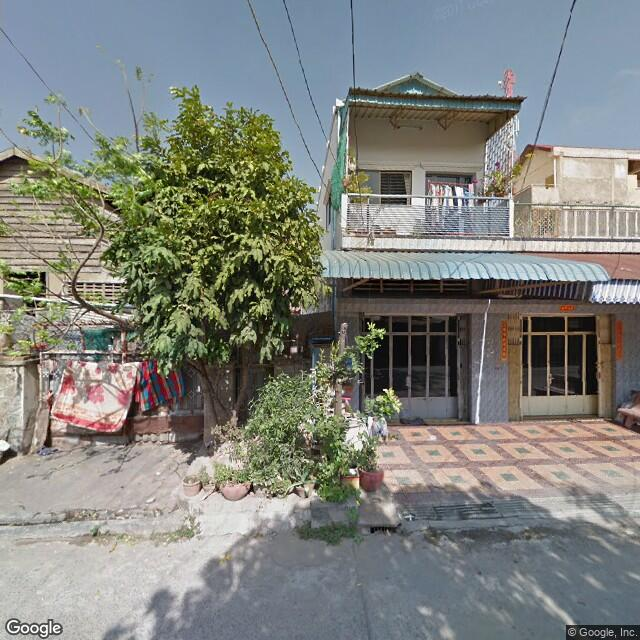litter: (148, 464, 172, 484), (400, 510, 419, 525)
